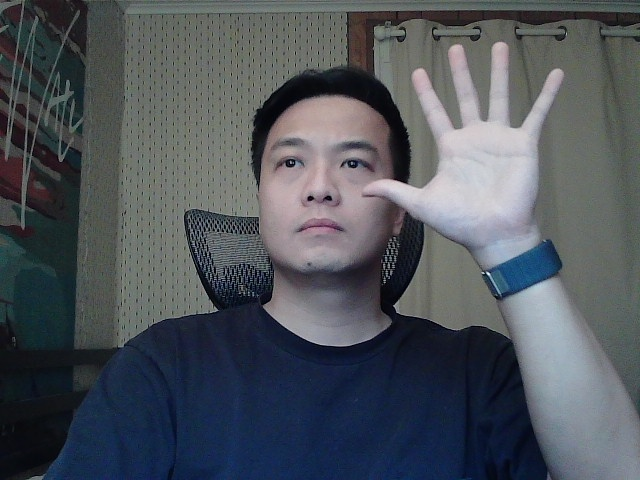Hello: (350, 34, 591, 279)
